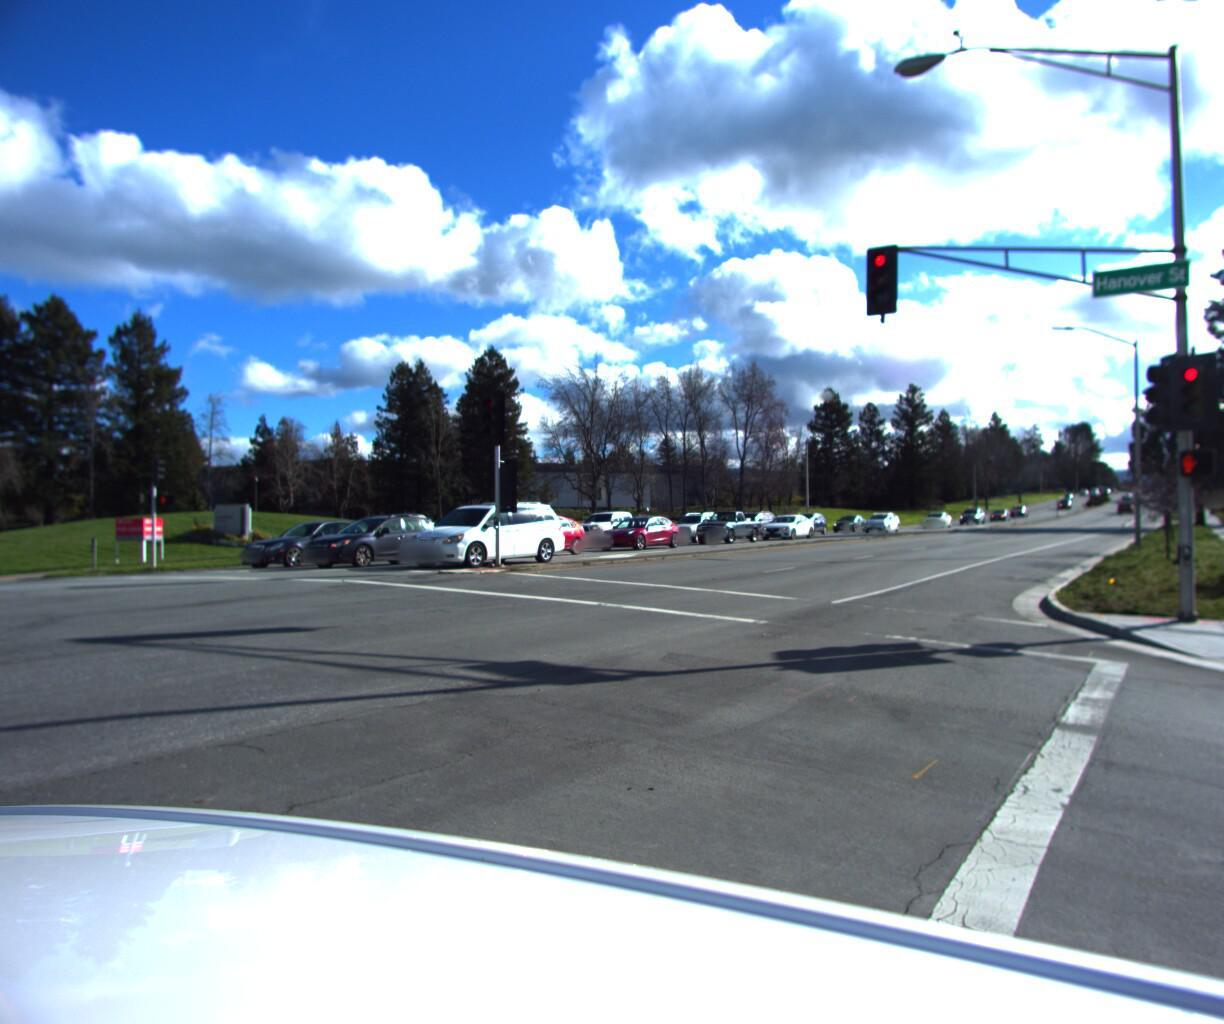car: (393, 494, 569, 573), (287, 513, 441, 573), (227, 519, 387, 571), (472, 513, 592, 559), (589, 514, 686, 551), (562, 509, 658, 547), (690, 507, 764, 544), (659, 509, 731, 542), (754, 513, 820, 539), (857, 511, 903, 531), (828, 513, 871, 531), (919, 511, 953, 528)
